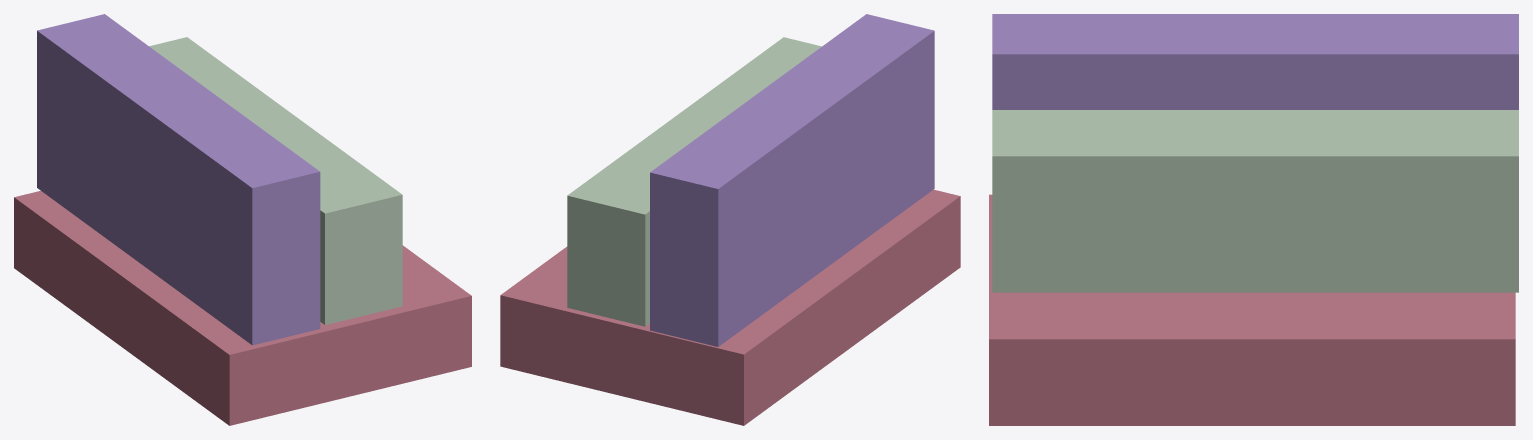
Rendered from 199506_pred.glb.
3 renders of one model, left to right at view 1: azimuth 30°, elevation 25°; view 2: azimuth 150°, elevation 25°; view 3: azimuth 270°, elevation 25°, orthographic. The views are drawn at different scales.
Visible parts, largest first — view 1: world; view 2: world; view 3: world.
Boxes of the visible parts, x1,y1,x2,y2 form: world: [14, 14, 471, 425]; world: [500, 14, 960, 425]; world: [989, 14, 1518, 425].
Bounding box in the file's own units: 5 × 4.55 × 7.75.
